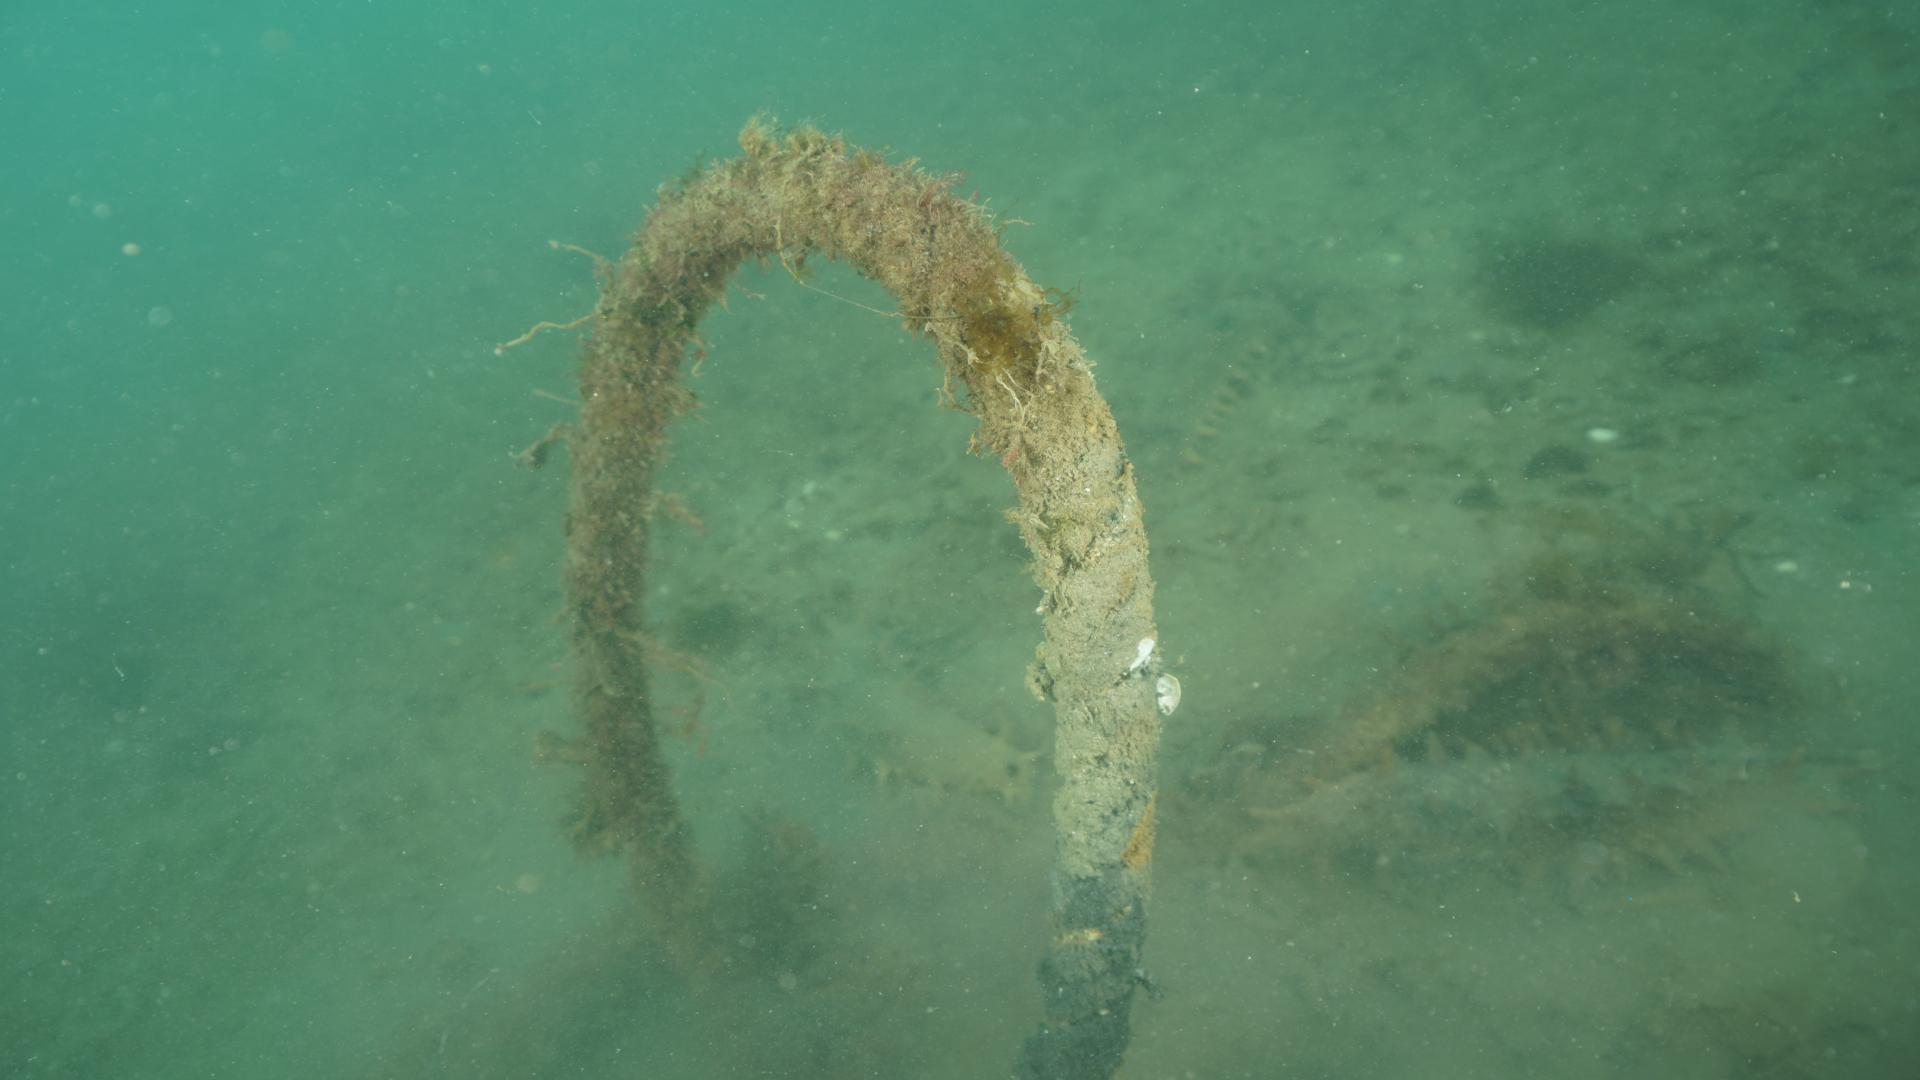rope: (564, 132, 1159, 1080)
